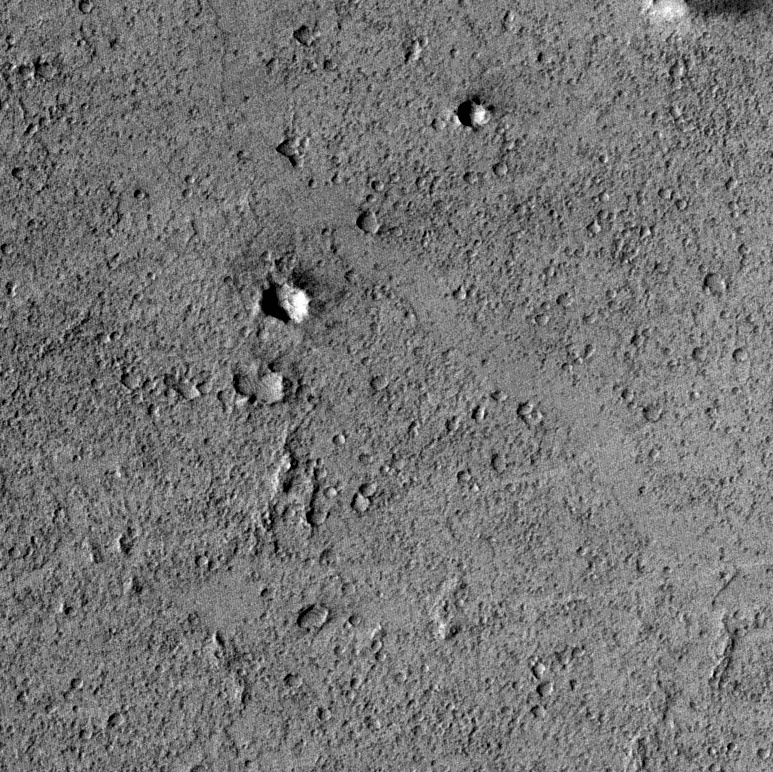dust_devil: (644, 1, 773, 27)
